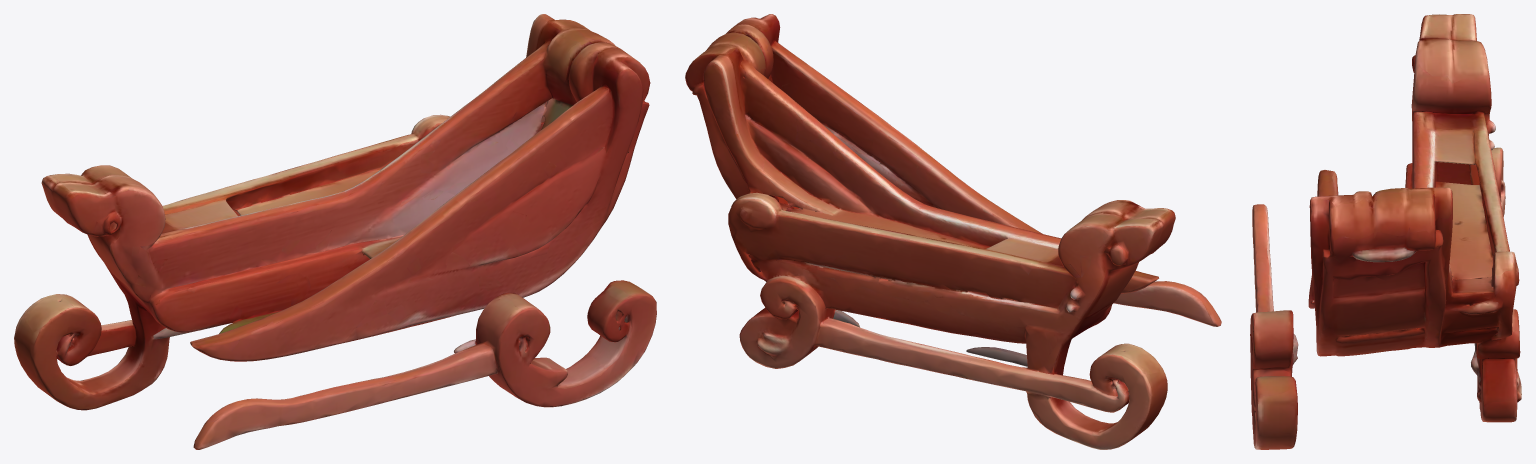
The model's file is red-sleigh.glb.
The picture shows the model from 3 angles, left to right: view 1: azimuth 30°, elevation 25°; view 2: azimuth 150°, elevation 25°; view 3: azimuth 270°, elevation 25°; orthographic projection. The views are drawn at different scales.
Parts seen in each view (by area): view 1: geometry_0; view 2: geometry_0; view 3: geometry_0.
Part boxes in pixels (x1=…): geometry_0: x1=14, y1=14, x2=656, y2=449; geometry_0: x1=685, y1=14, x2=1221, y2=449; geometry_0: x1=1250, y1=14, x2=1521, y2=449.
Size of the model in its own units: 4.81 by 2.5 by 2.17.
1 material, 1 textured.
